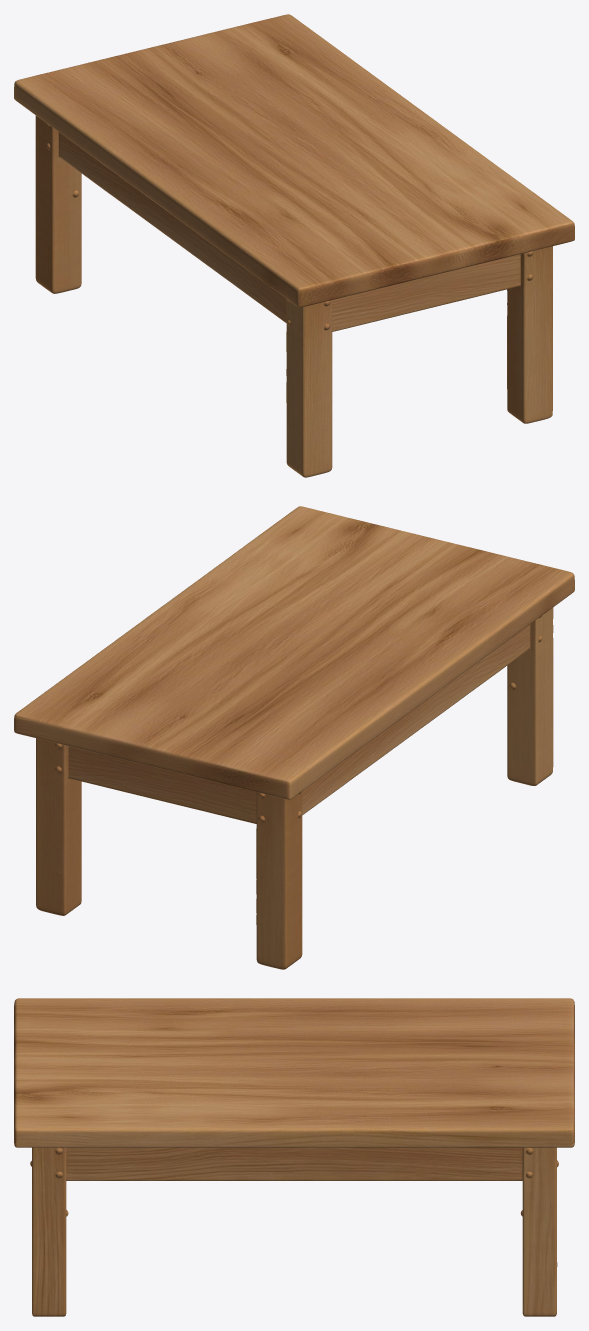
File: table-salon-compressed.glb
The picture shows the model from 3 angles, top to bottom: view 1: azimuth 30°, elevation 25°; view 2: azimuth 150°, elevation 25°; view 3: azimuth 270°, elevation 25°; orthographic projection. The views are drawn at different scales.
Parts seen in each view (by area): view 1: tripo_node_75c5fff4-338f-4754-98e2-20fd73c6087b; view 2: tripo_node_75c5fff4-338f-4754-98e2-20fd73c6087b; view 3: tripo_node_75c5fff4-338f-4754-98e2-20fd73c6087b.
Part boxes in pixels (x1,y1,x2,y2): tripo_node_75c5fff4-338f-4754-98e2-20fd73c6087b: (14, 14, 574, 477); tripo_node_75c5fff4-338f-4754-98e2-20fd73c6087b: (14, 506, 574, 969); tripo_node_75c5fff4-338f-4754-98e2-20fd73c6087b: (14, 998, 574, 1316).
Size of the model in its own units: 0.5594 by 0.3852 by 1.
1 material, 1 textured.
